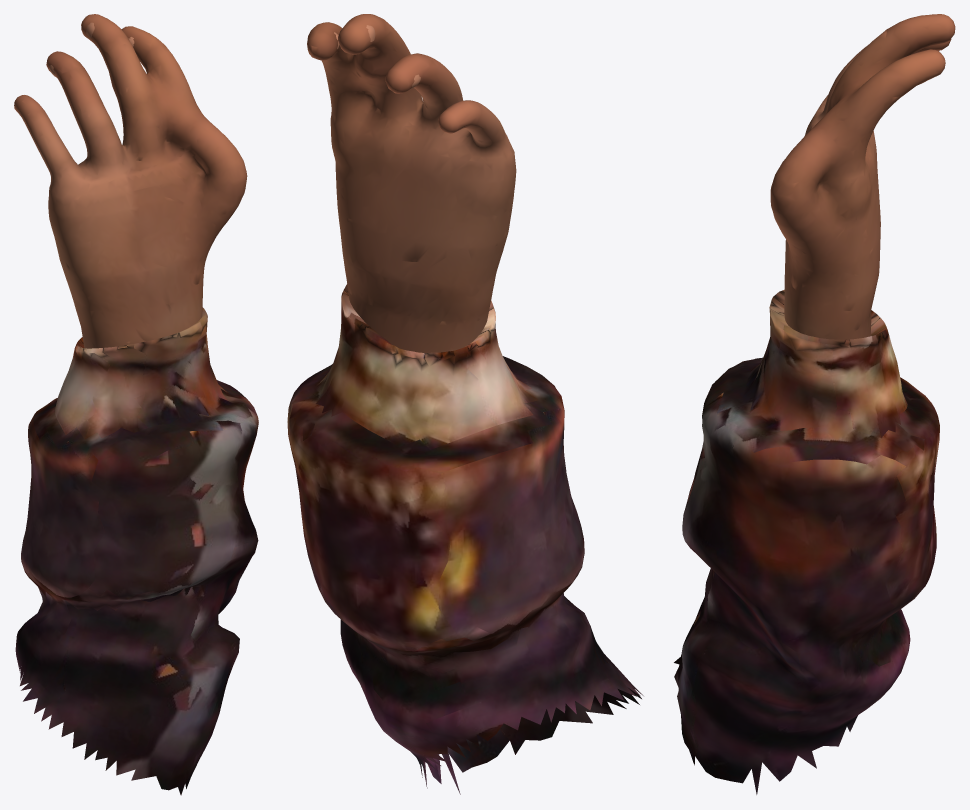
File: mage-grip-v2.glb
The picture shows the model from 3 angles, left to right: view 1: azimuth 30°, elevation 25°; view 2: azimuth 150°, elevation 25°; view 3: azimuth 270°, elevation 25°; orthographic projection. The views are drawn at different scales.
Visible parts, largest first — view 1: MageOriginalCuff, MageHand; view 2: MageOriginalCuff, MageHand; view 3: MageOriginalCuff, MageHand.
Boxes of the visible parts, x1=… form: MageOriginalCuff: x1=15, y1=307, x2=258, y2=795; MageHand: x1=14, y1=14, x2=247, y2=348; MageOriginalCuff: x1=287, y1=284, x2=643, y2=794; MageHand: x1=307, y1=14, x2=516, y2=352; MageOriginalCuff: x1=674, y1=289, x2=939, y2=794; MageHand: x1=770, y1=14, x2=955, y2=339.
Bounding box in the file's own units: 1.62 × 4.48 × 1.46.
Materials: 2 (1 with a texture image).
